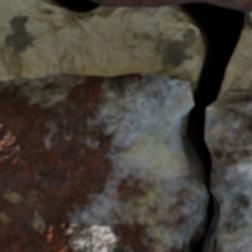brick: (95, 0, 251, 11)
broken_brick: (0, 71, 200, 251), (206, 89, 251, 251)
crack: (174, 1, 251, 251), (47, 0, 102, 15)
